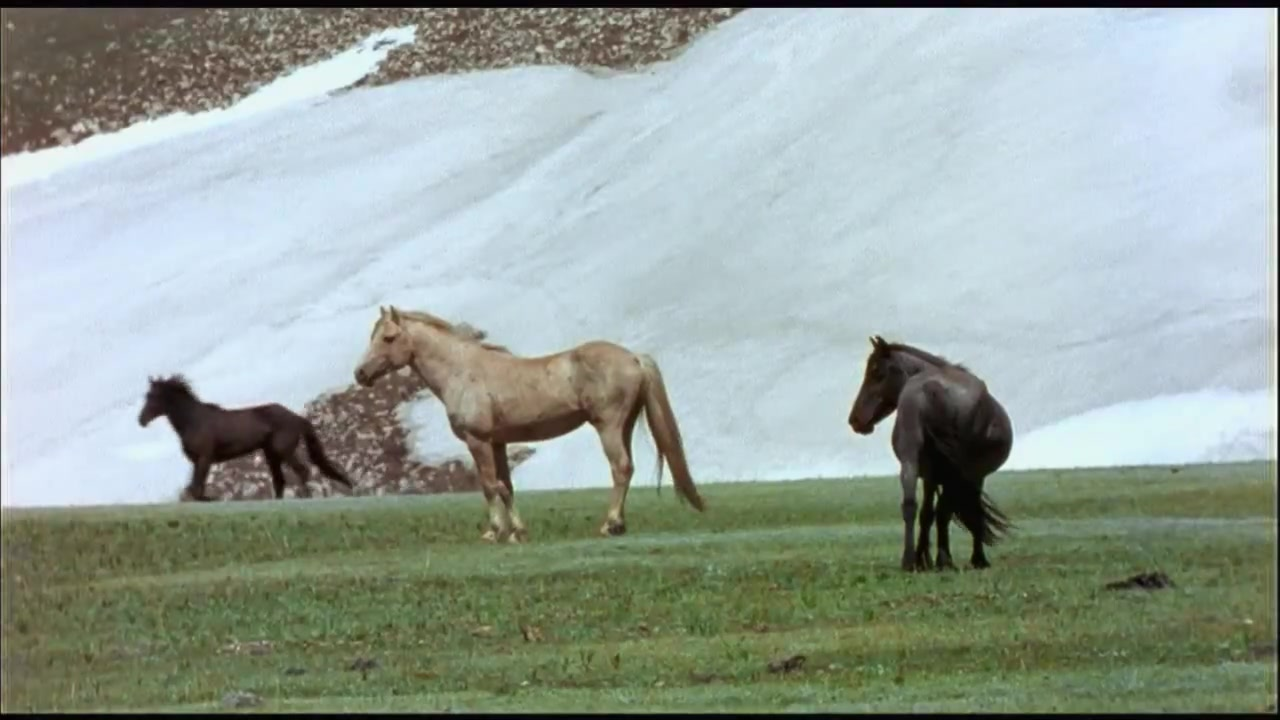horse: (352, 304, 709, 547)
